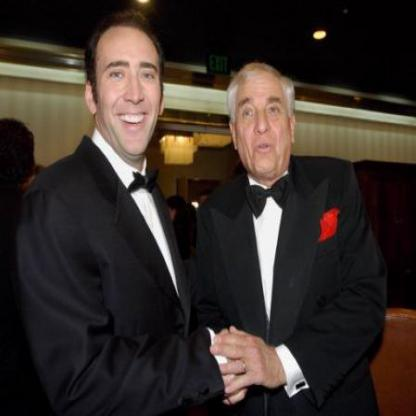face: (97, 14, 163, 159), (236, 62, 292, 179)
